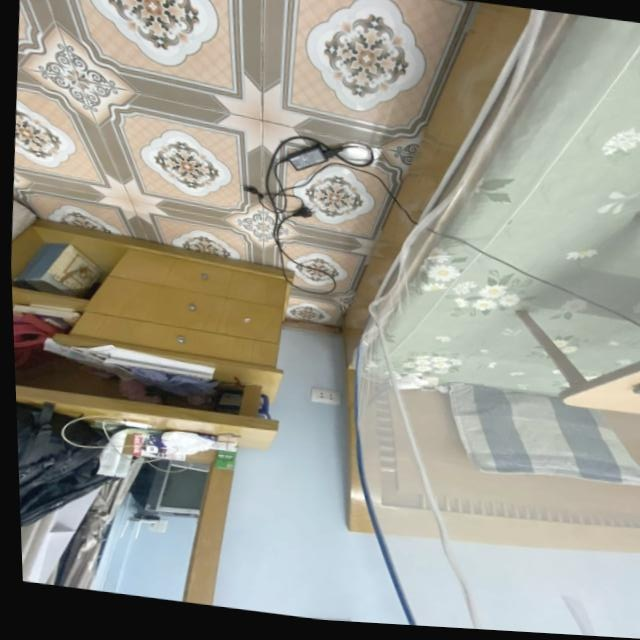outlet: (311, 386, 343, 403)
